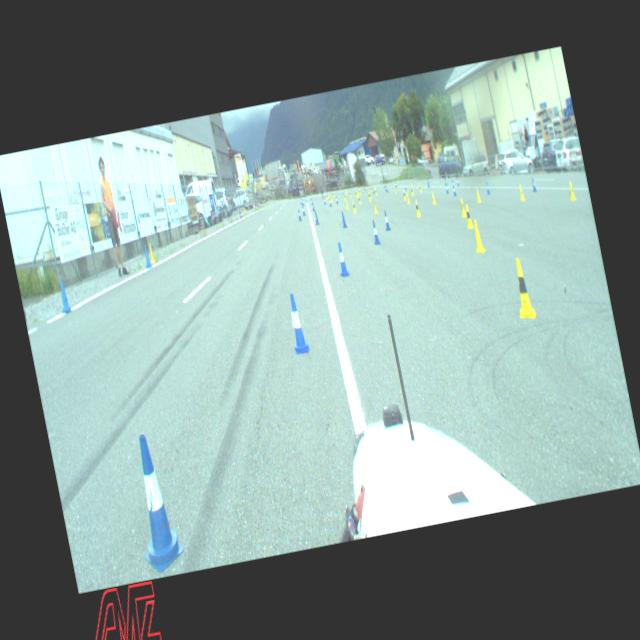blue_cone: (122, 432, 188, 574), (284, 292, 310, 354), (334, 242, 350, 278), (370, 220, 381, 245), (382, 210, 391, 230), (340, 211, 347, 227), (531, 178, 537, 192), (314, 211, 320, 225), (444, 182, 449, 194), (485, 182, 490, 194), (452, 185, 457, 196), (297, 210, 302, 220), (302, 206, 306, 216), (312, 202, 316, 211), (456, 177, 460, 186), (323, 197, 326, 205), (329, 199, 332, 207), (336, 196, 338, 204), (302, 199, 304, 206)
yellow_cone: (509, 258, 537, 320), (470, 219, 486, 253), (463, 204, 475, 228), (458, 198, 468, 218), (568, 180, 576, 201), (518, 184, 526, 202), (474, 188, 482, 203), (414, 200, 421, 216), (372, 202, 378, 215), (430, 191, 436, 204), (402, 189, 407, 200), (373, 186, 378, 196), (352, 201, 356, 213), (406, 192, 410, 204), (345, 199, 349, 209), (368, 192, 372, 202), (358, 195, 362, 205), (410, 187, 414, 196), (418, 184, 422, 192), (348, 190, 352, 198), (354, 190, 358, 198), (358, 188, 362, 196), (330, 195, 333, 202), (343, 193, 346, 200)
